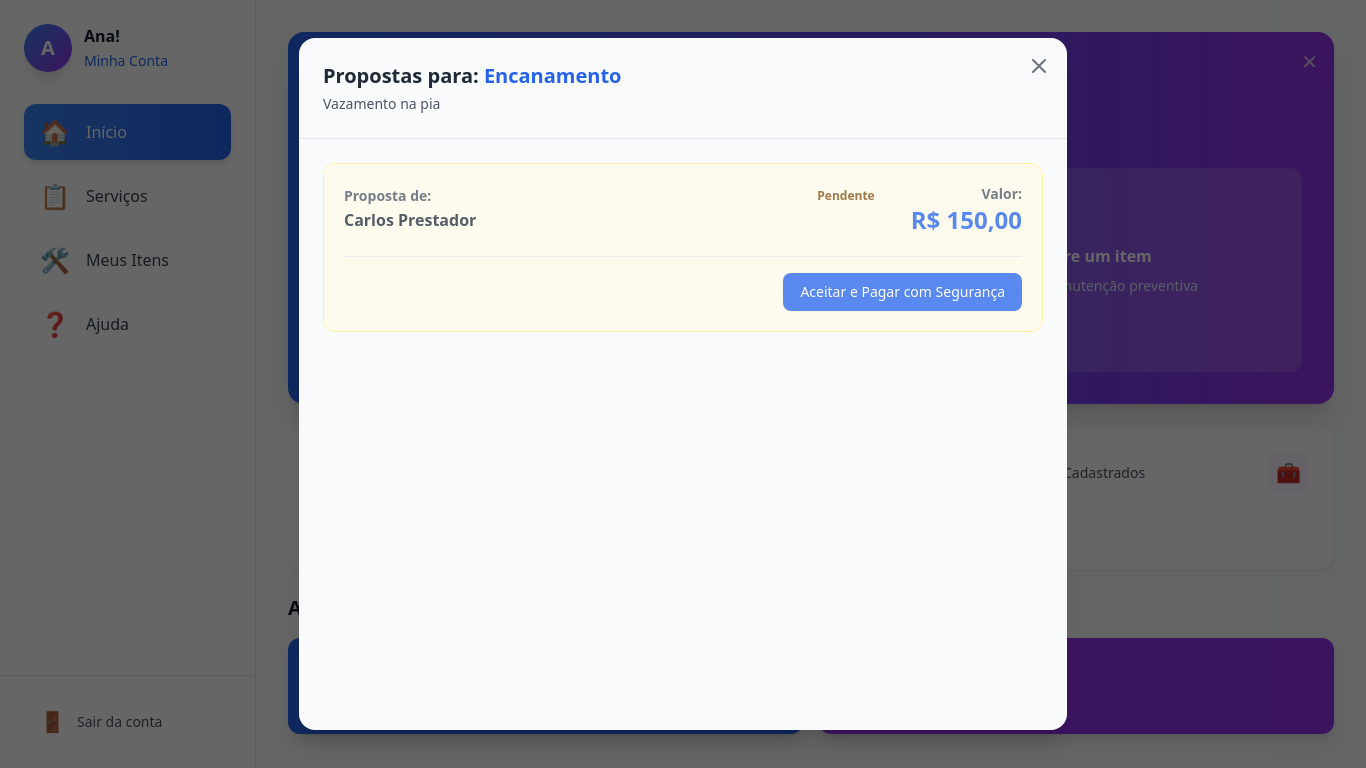
Test: ClientDashboard › Fluxo de Pagamento › deve abrir o modal de pagamento ao aceitar uma proposta
Clica em "Aceitar Proposta" dentro do modal de propostas (simulado)
Click the button "Aceitar e Pagar com Segurança": (903,292) top-left (783, 273), bottom-right (1022, 311)
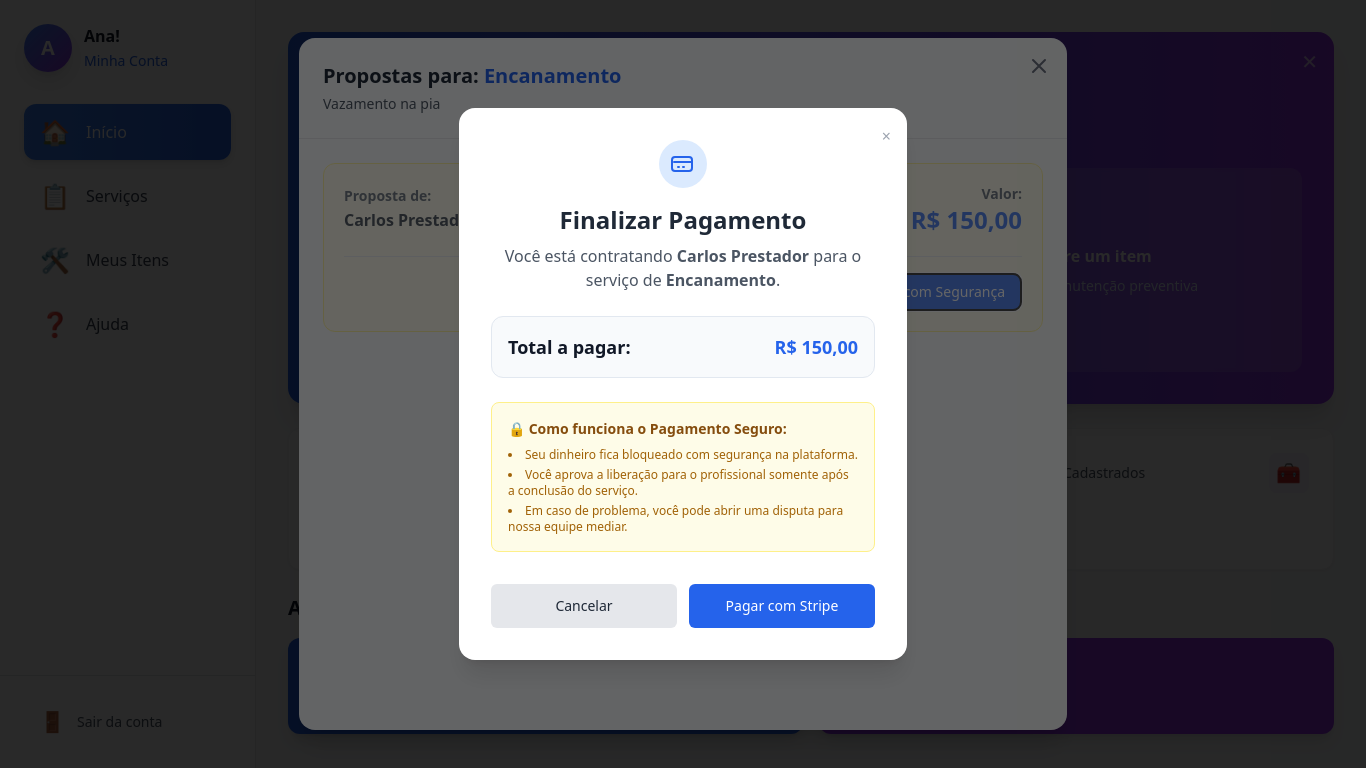
Check: the element with test id "payment-modal" is shown, box top-left (459, 108), bottom-right (907, 660)
Check: the heading "Finalizar Pagamento" is shown, box top-left (560, 203), bottom-right (806, 236)
Check: the text "R$ 150,00" is shown, box top-left (774, 333), bottom-right (858, 361)
